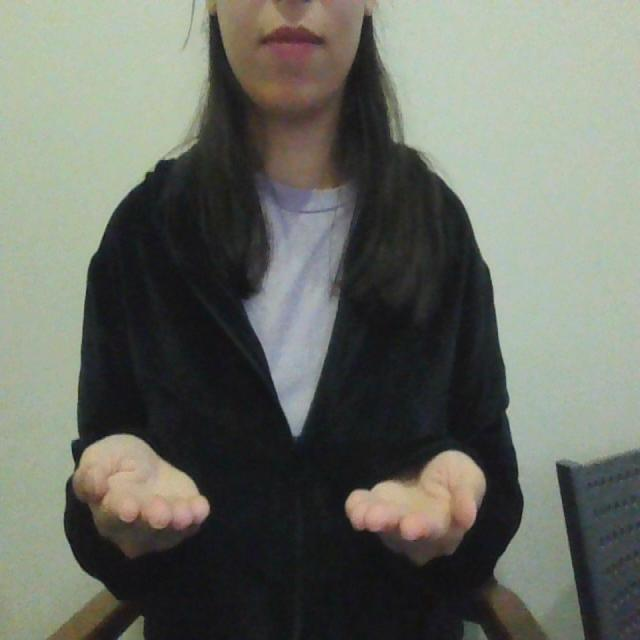Evet: (70, 428, 488, 568)
